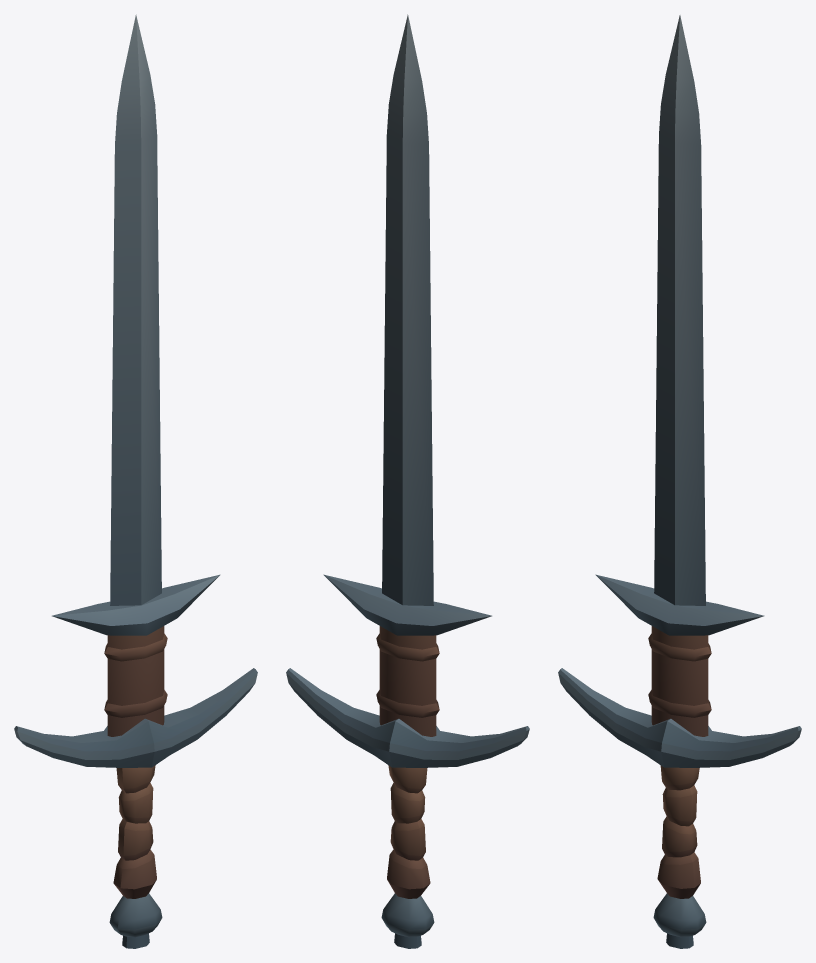
File: XW_sword_E.glb
3 renders of one model, left to right at view 1: azimuth 30°, elevation 25°; view 2: azimuth 150°, elevation 25°; view 3: azimuth 330°, elevation 25°, orthographic.
Visible parts, largest first — view 1: sword_E; view 2: sword_E; view 3: sword_E.
Part boxes in pixels (x1,y1,x2,y2): sword_E: [14, 14, 257, 948]; sword_E: [286, 14, 529, 948]; sword_E: [558, 15, 801, 948].
Size of the model in its own units: 0.8793 by 3.25 by 0.237.
